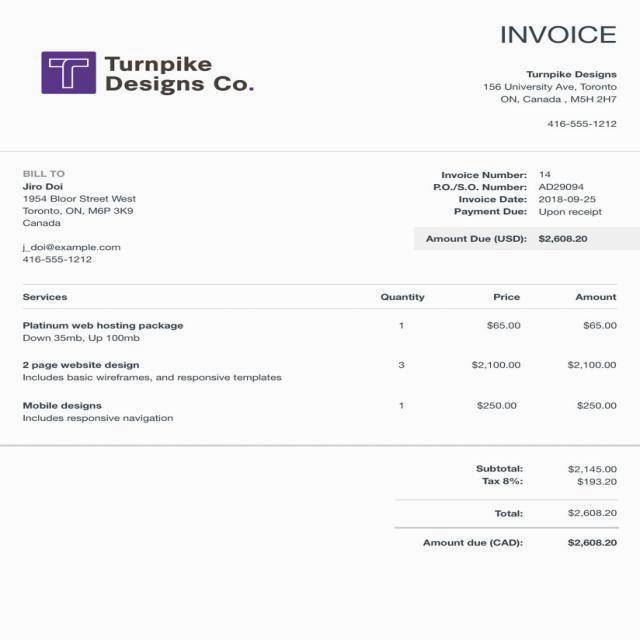paragraph: (422, 462, 634, 576), (417, 163, 612, 256), (18, 165, 142, 270), (36, 48, 259, 102), (478, 69, 628, 128), (497, 20, 619, 49)
table: (2, 280, 636, 447)
